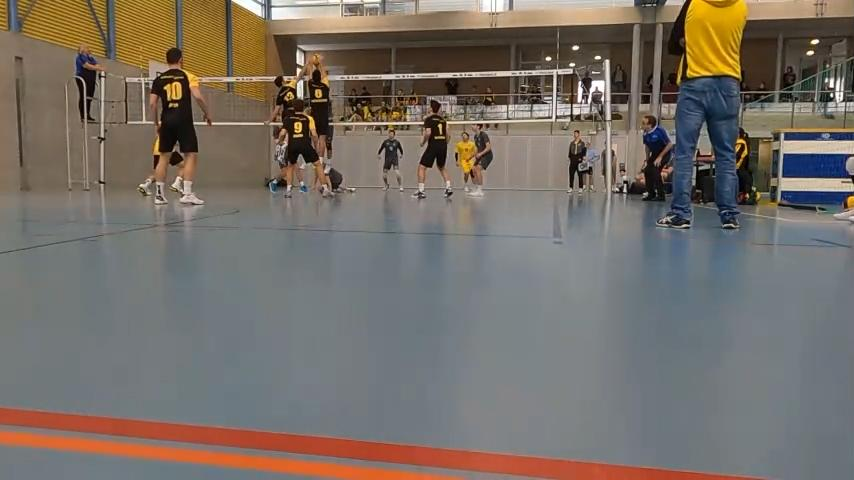muro: (302, 57, 342, 179), (264, 57, 306, 152)
